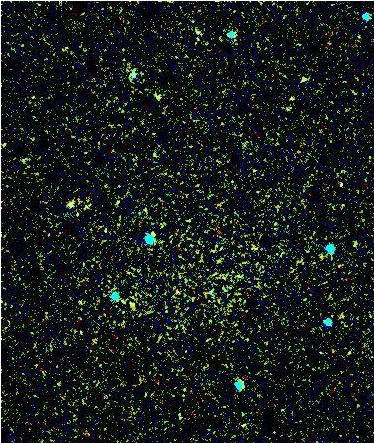star: (117, 291, 147, 321)
